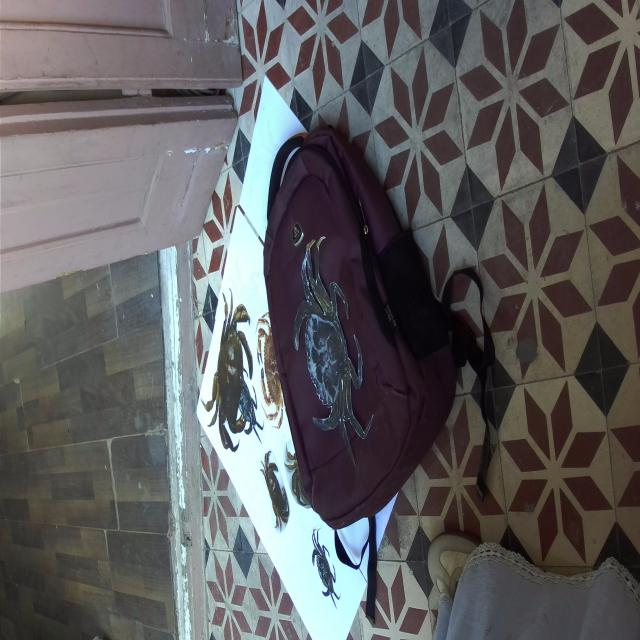European_Green_Crab: (275, 230, 381, 470), (305, 527, 344, 608), (232, 377, 271, 449)
